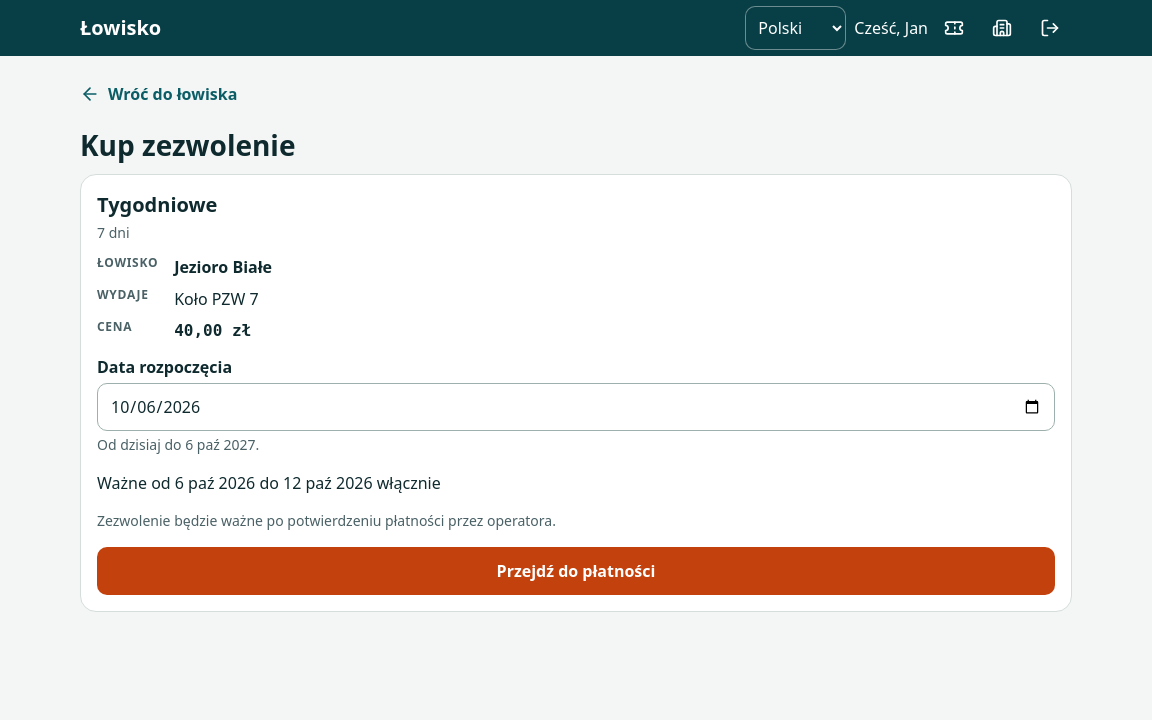
Test: buy permit page › does not send the start
Clear the date field labelled "Data rozpoczęcia" at (576, 407), box [97,383,1055,431]
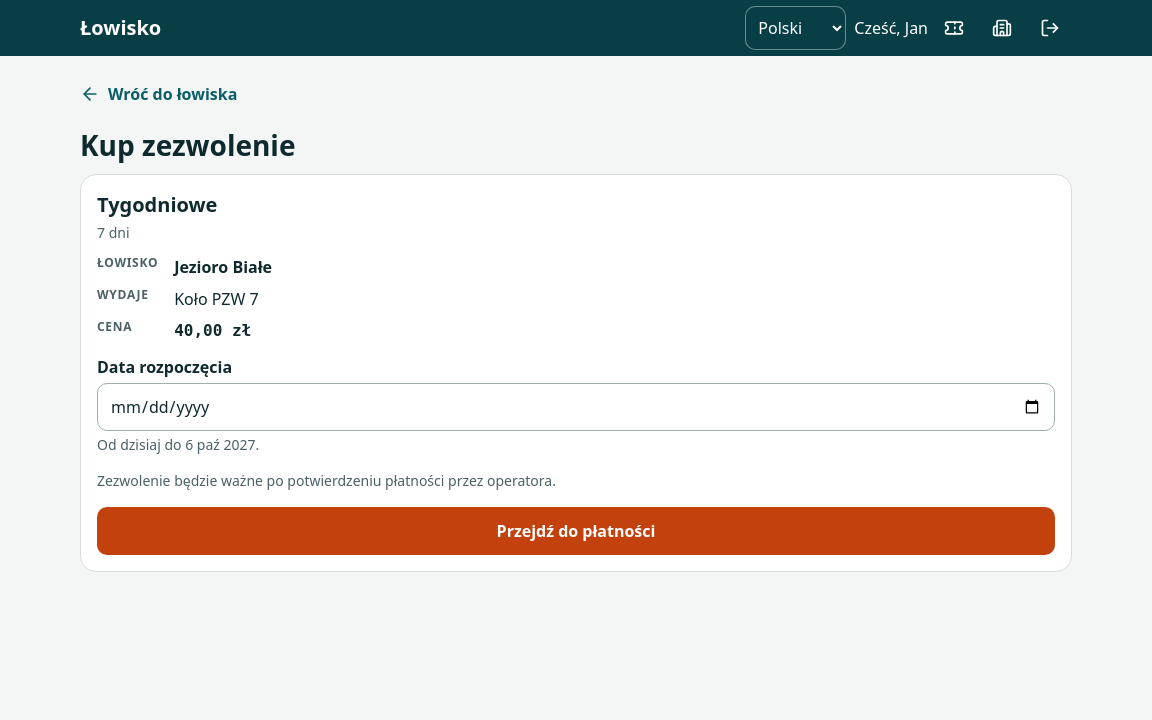
Click the button "Przejdź do płatności".
click(576, 531)  # box [97,507,1055,555]
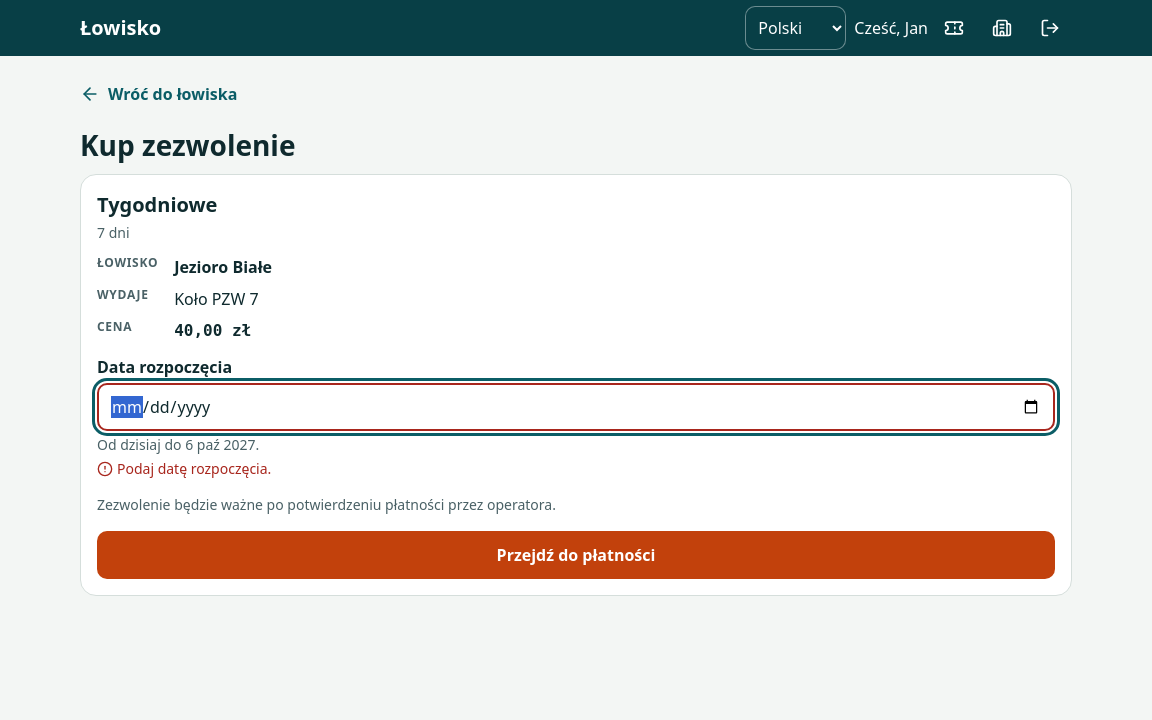
Expected: the text "Podaj datę rozpoczęcia." is shown, [97,459,271,478]
